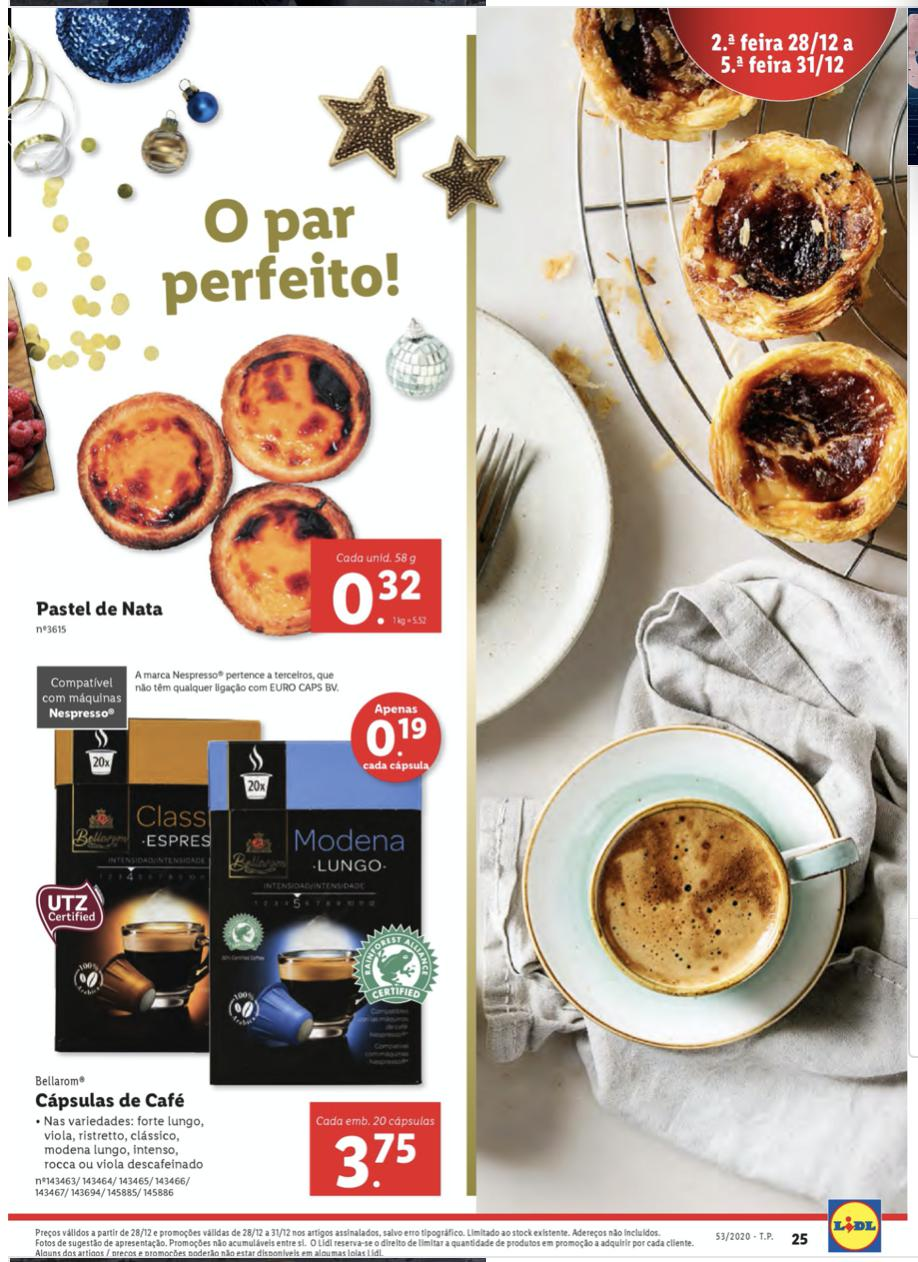name: (35, 594, 166, 621), (30, 1091, 187, 1113)
price: (327, 564, 435, 628), (326, 1128, 419, 1191)
product: (15, 657, 454, 1203), (15, 316, 457, 650)
